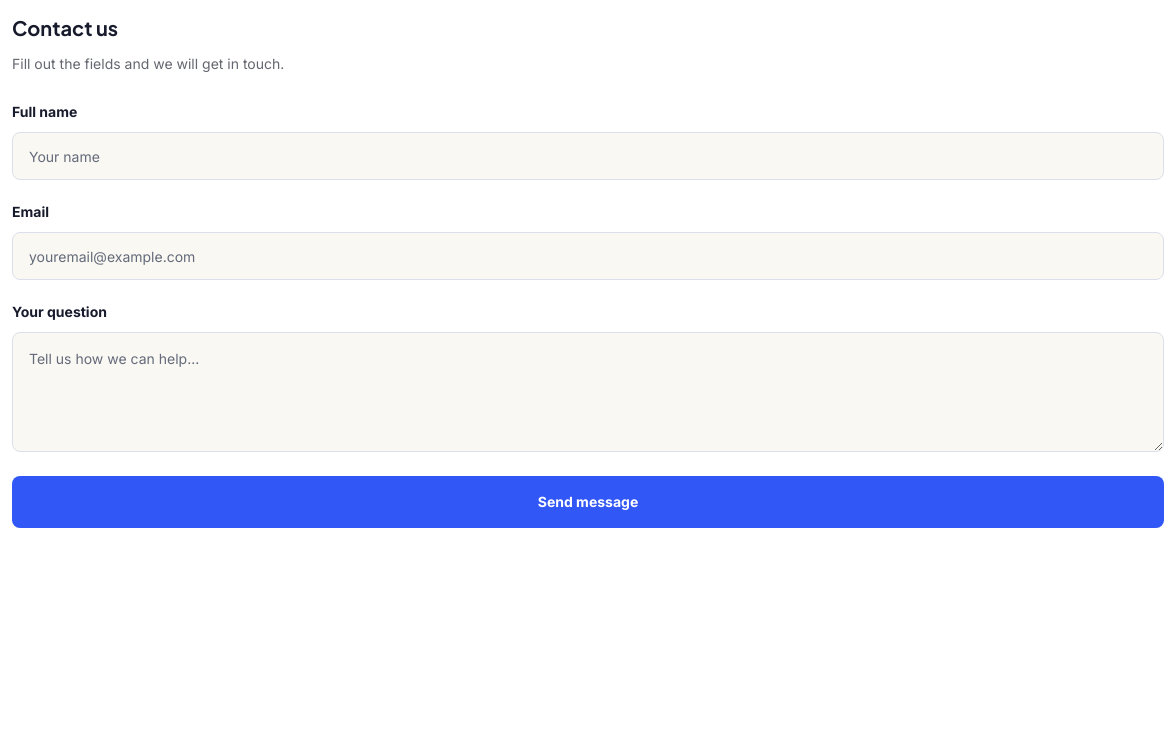
empty submit shows every error, links them, focuses the first field and skips the action
Click the button "Send message".
click(588, 502)  # box [12,476,1164,528]
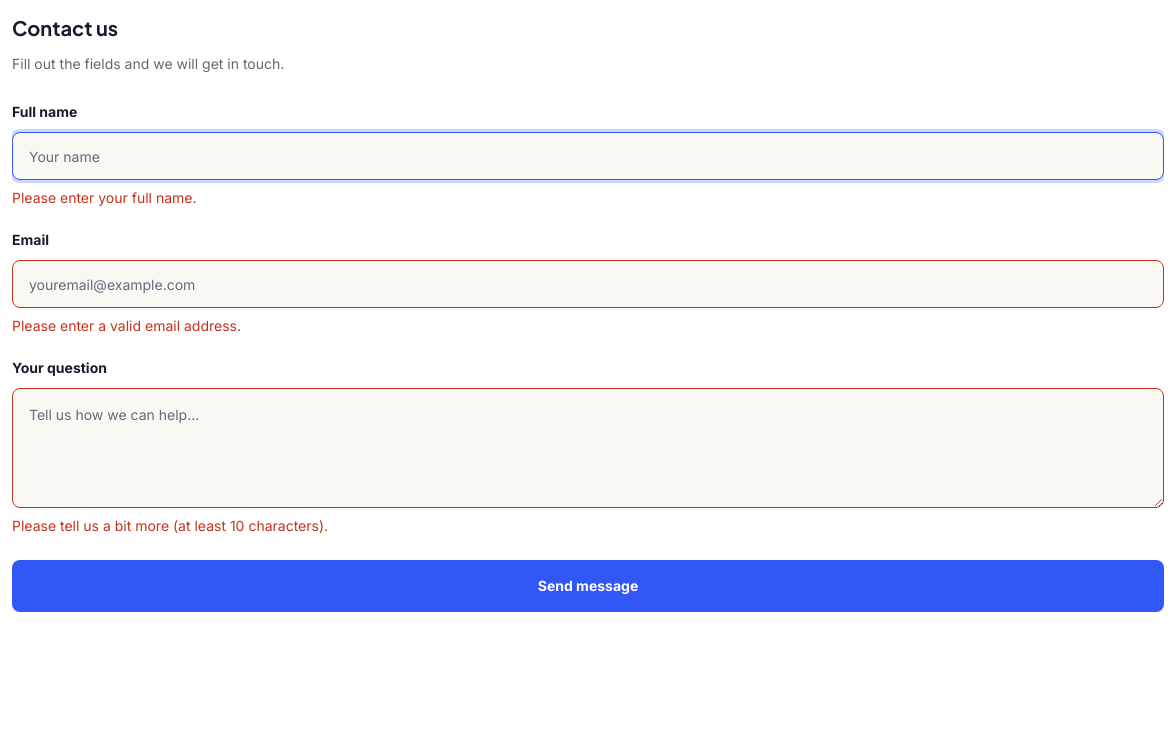
Expected: the field labelled "Email" is marked as invalid, [12,260,1164,308]
Expected: the text box labelled "Your question" is marked as invalid, [12,388,1164,508]
